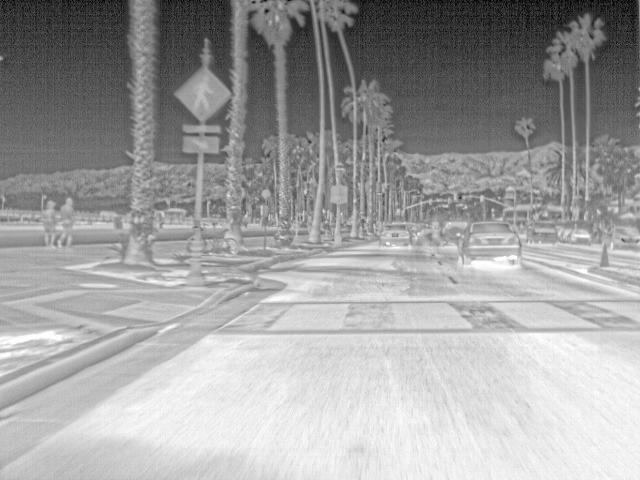car: (459, 220, 523, 264), (606, 224, 640, 251), (380, 222, 414, 248), (529, 218, 561, 244), (566, 228, 596, 246)
person: (58, 196, 78, 246), (41, 198, 60, 246)
